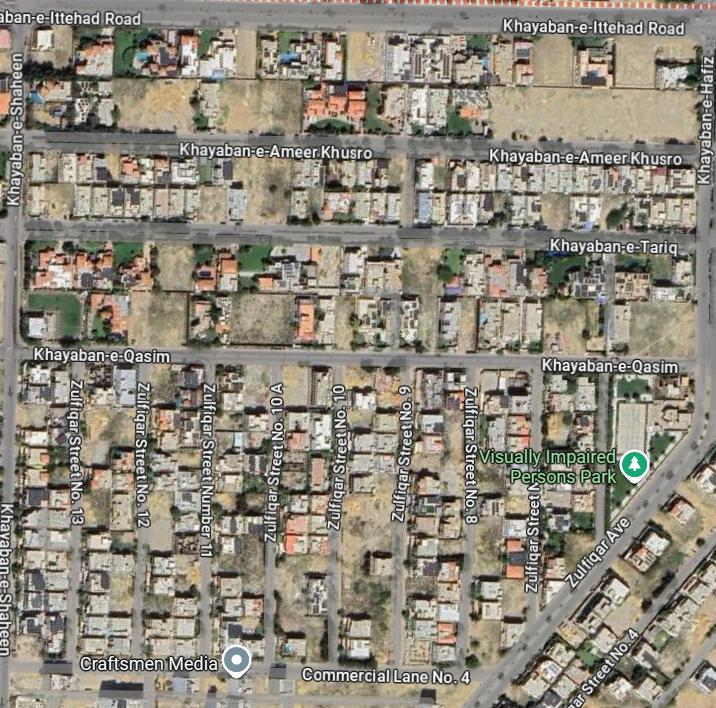Buildings: (23, 27, 703, 144), (23, 246, 695, 357), (24, 150, 701, 233), (469, 373, 531, 669), (404, 367, 464, 668), (341, 365, 398, 668), (215, 362, 272, 662), (147, 364, 204, 661), (79, 369, 133, 657), (15, 362, 68, 653), (279, 369, 331, 664), (605, 377, 694, 536), (547, 369, 596, 607)
